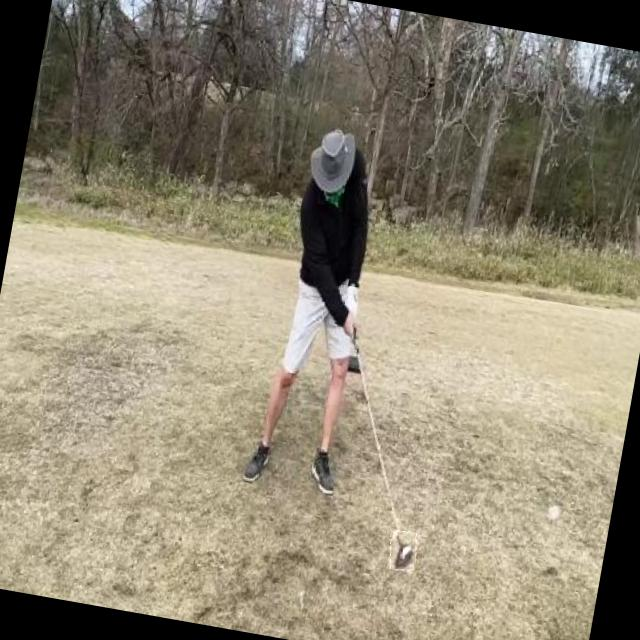club head: (386, 529, 420, 573)
